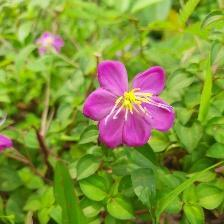malabar melastome: (80, 59, 179, 151)
